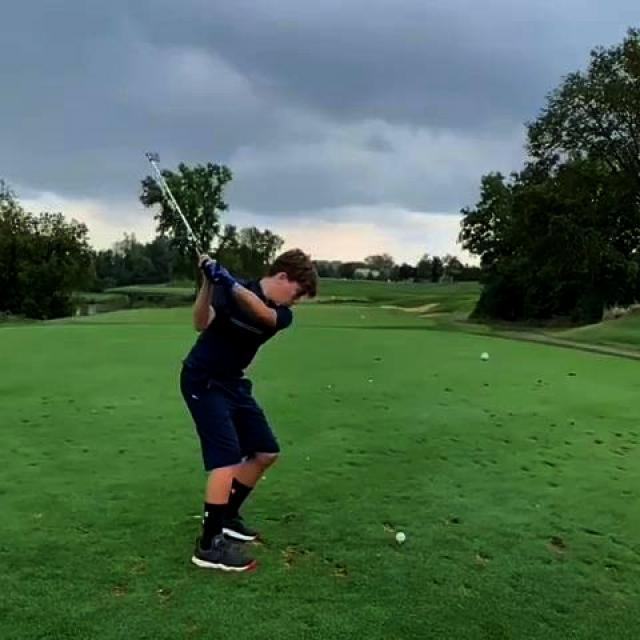ClubHead: (146, 152, 158, 162)
GolfBall: (396, 532, 406, 543), (480, 352, 488, 360)
